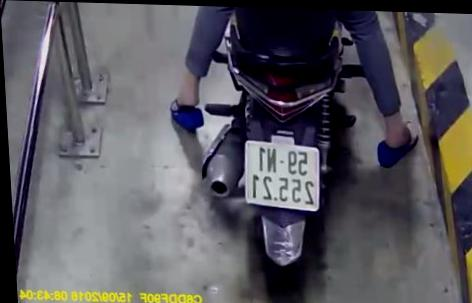License_Plate: (234, 139, 331, 212)
